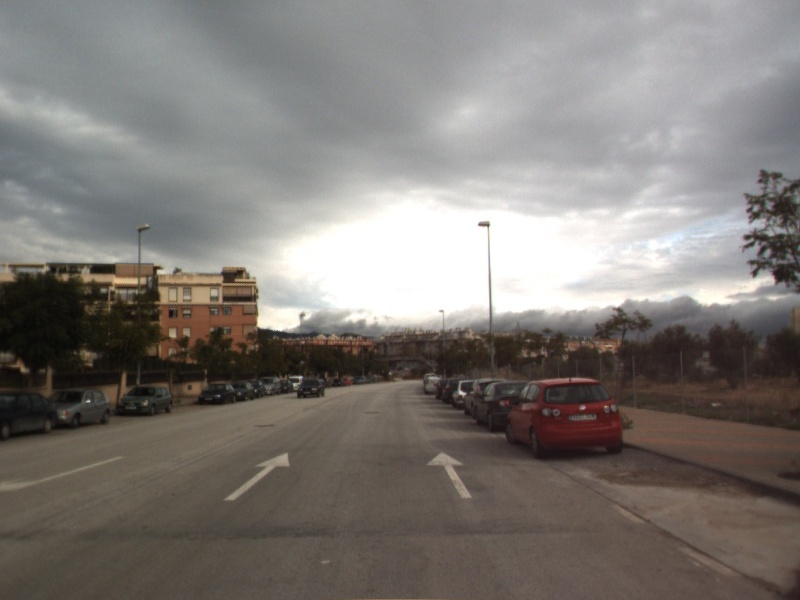STRAIGHT: (221, 450, 292, 503), (424, 449, 474, 500)
